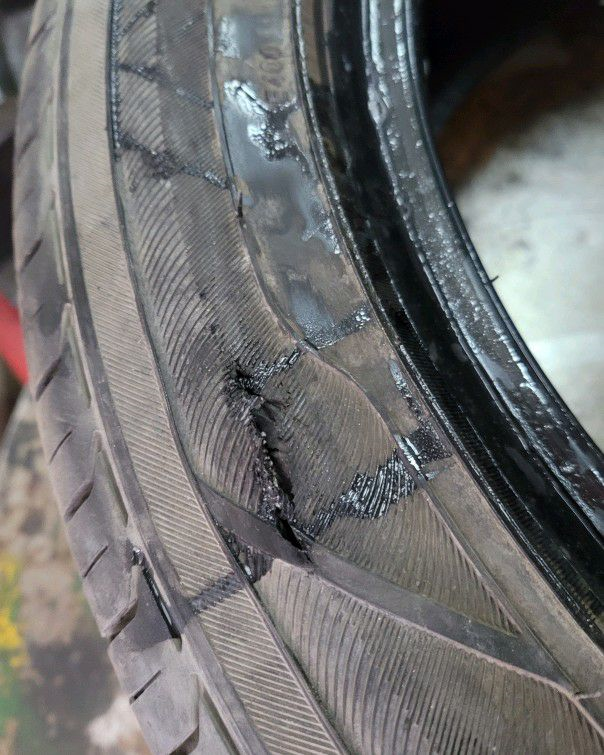cut: (228, 365, 316, 560)
